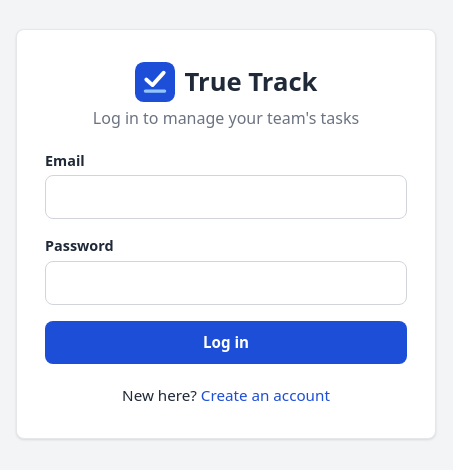
Test: LoginPage › shows an error for an invalid email
Step 1. Type "not-an-email" into the field labelled "Email" → (226, 197), box [45, 175, 407, 219]
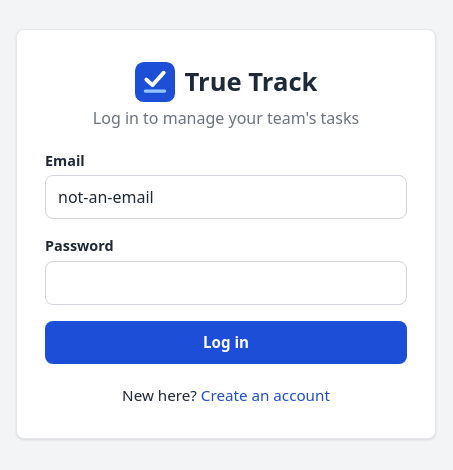
Step 2. Type "secret123" into the password field labelled "Password" → (226, 283), box [45, 261, 407, 305]
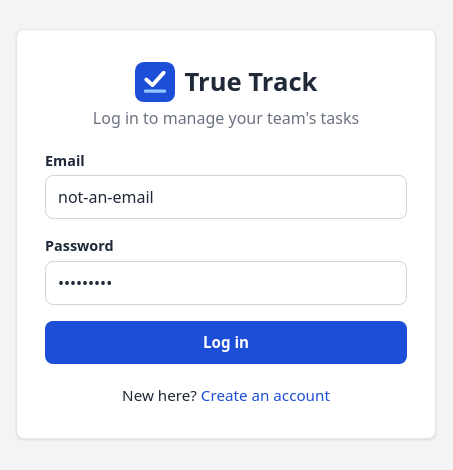
Step 3. Click the button "Log in" → (226, 342), box [45, 321, 407, 364]
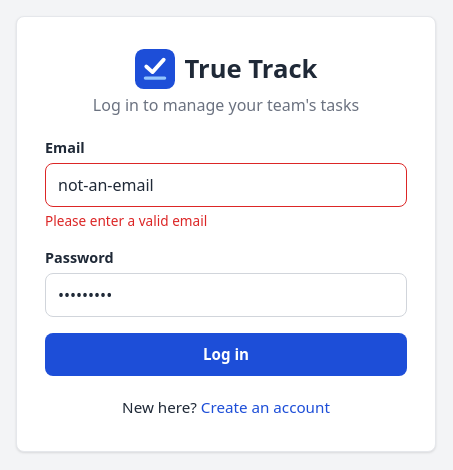
Check: the text "Please enter a valid email" is shown, box [45, 211, 207, 230]
